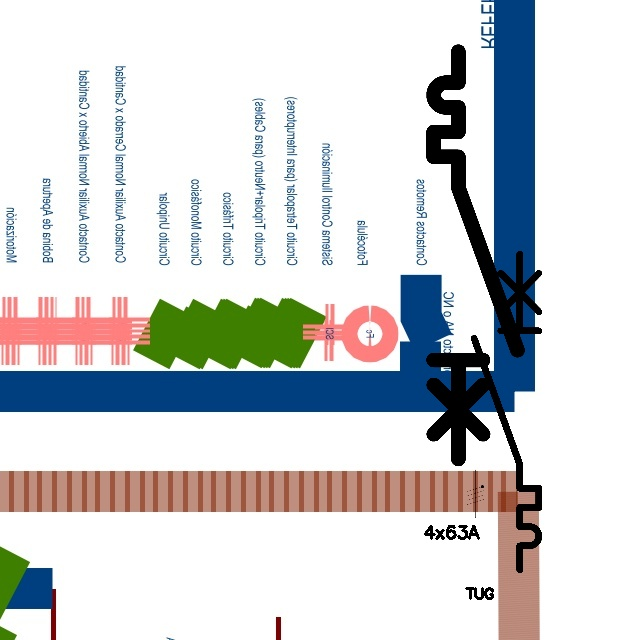interruptor_termomagnetico: (423, 41, 528, 469), (466, 246, 547, 578)
